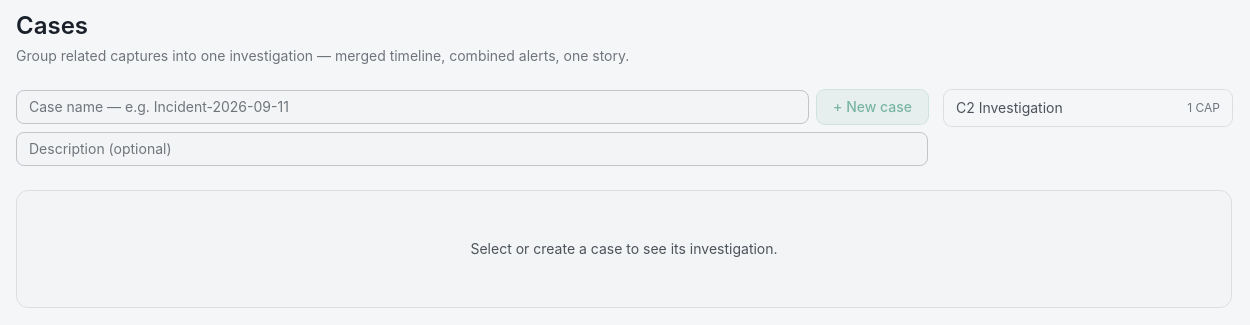
CasesPage › create button is disabled until a name is typed
Check: the button "+ New case" is disabled, box x1=817 y1=90 x2=928 y2=124
Type "Incident-42" into the field labelled "Case name" at (413,107), box x1=16 y1=90 x2=809 y2=124
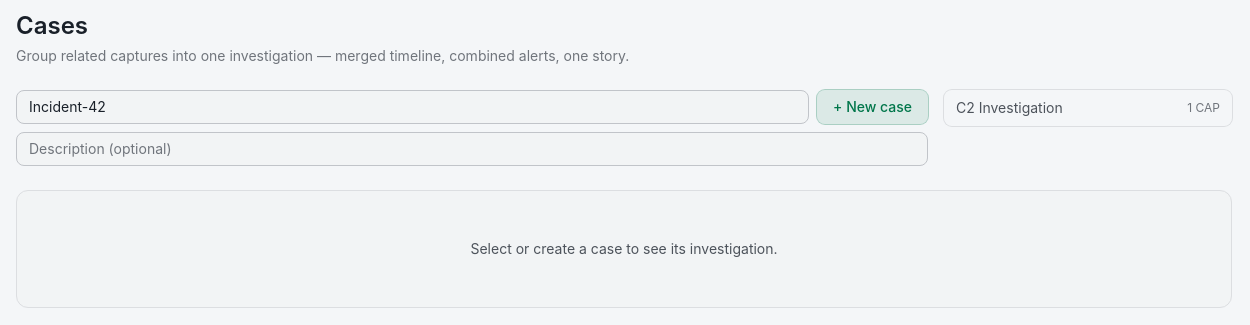
Check: the button "+ New case" is enabled, box x1=817 y1=90 x2=928 y2=124
